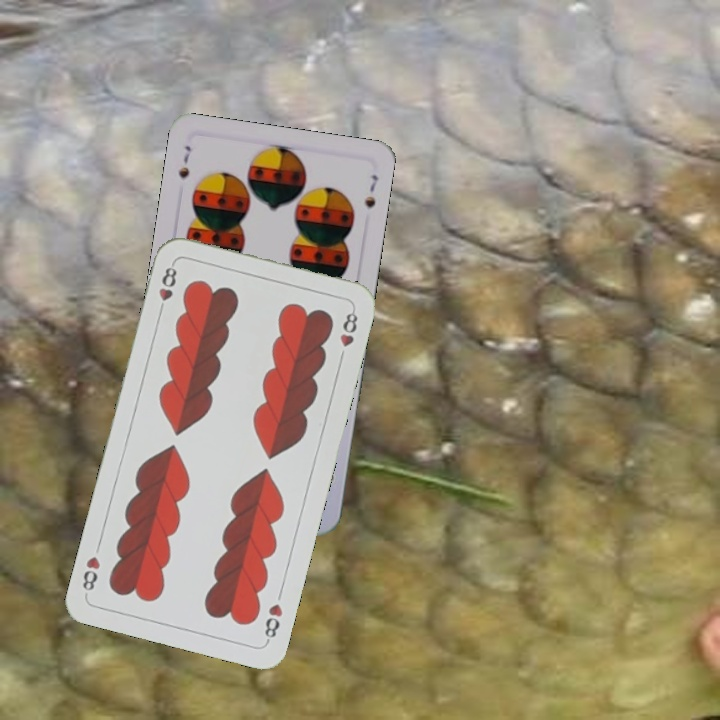H8: (154, 259, 180, 317), (260, 599, 286, 645)
S7: (174, 141, 194, 181)
